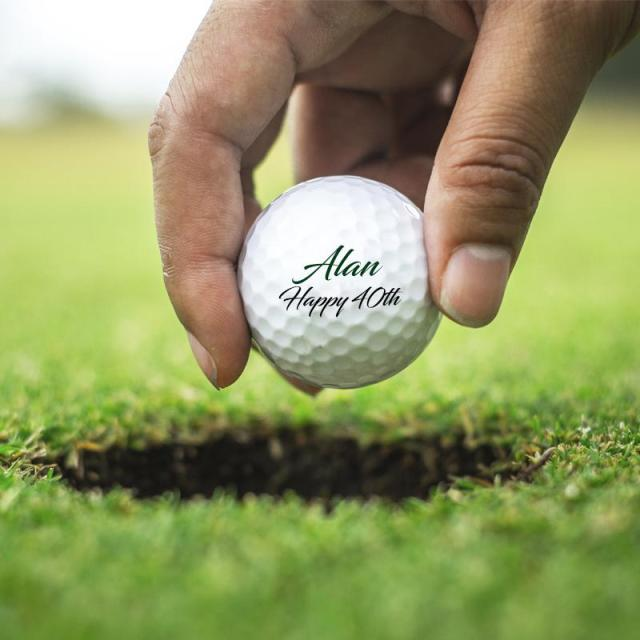ball: (242, 170, 444, 394)
